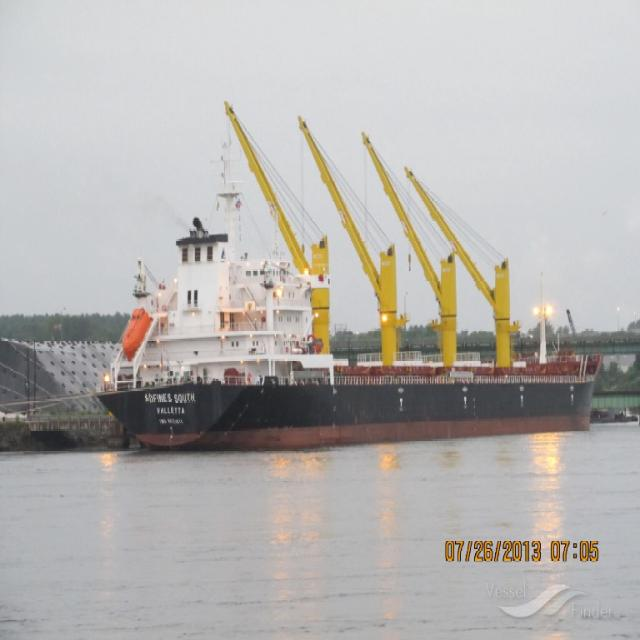OCR: (138, 386, 200, 438)
